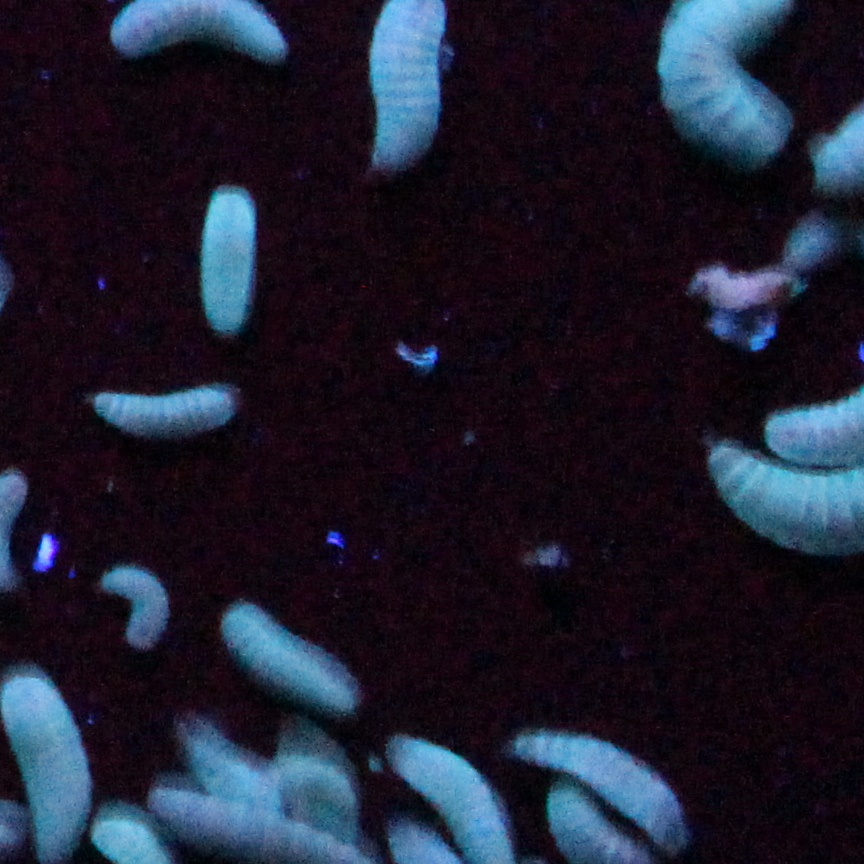larve: (522, 736, 694, 840), (218, 592, 354, 708), (10, 700, 82, 844), (90, 384, 258, 428), (198, 188, 242, 324), (114, 576, 178, 652)
